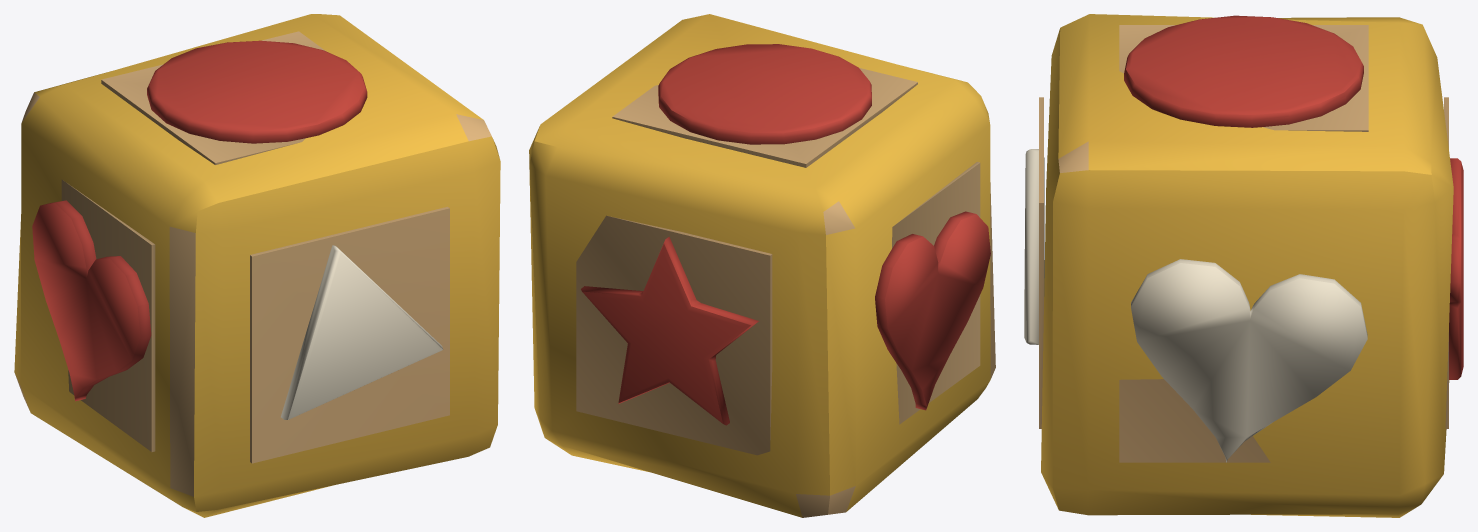
Rendered from den_block_yellow_lod1.glb.
The picture shows the model from 3 angles, left to right: view 1: azimuth 30°, elevation 25°; view 2: azimuth 150°, elevation 25°; view 3: azimuth 270°, elevation 25°; orthographic projection. The views are drawn at different scales.
Visible parts, largest first — view 1: den_block_yellow.001; view 2: den_block_yellow.001; view 3: den_block_yellow.001.
Boxes of the visible parts, <box> form: den_block_yellow.001: <box>14,14,500,517</box>; den_block_yellow.001: <box>529,14,995,517</box>; den_block_yellow.001: <box>1024,14,1463,517</box>.
Bounding box in the file's own units: 4.93 × 4.79 × 4.93.
